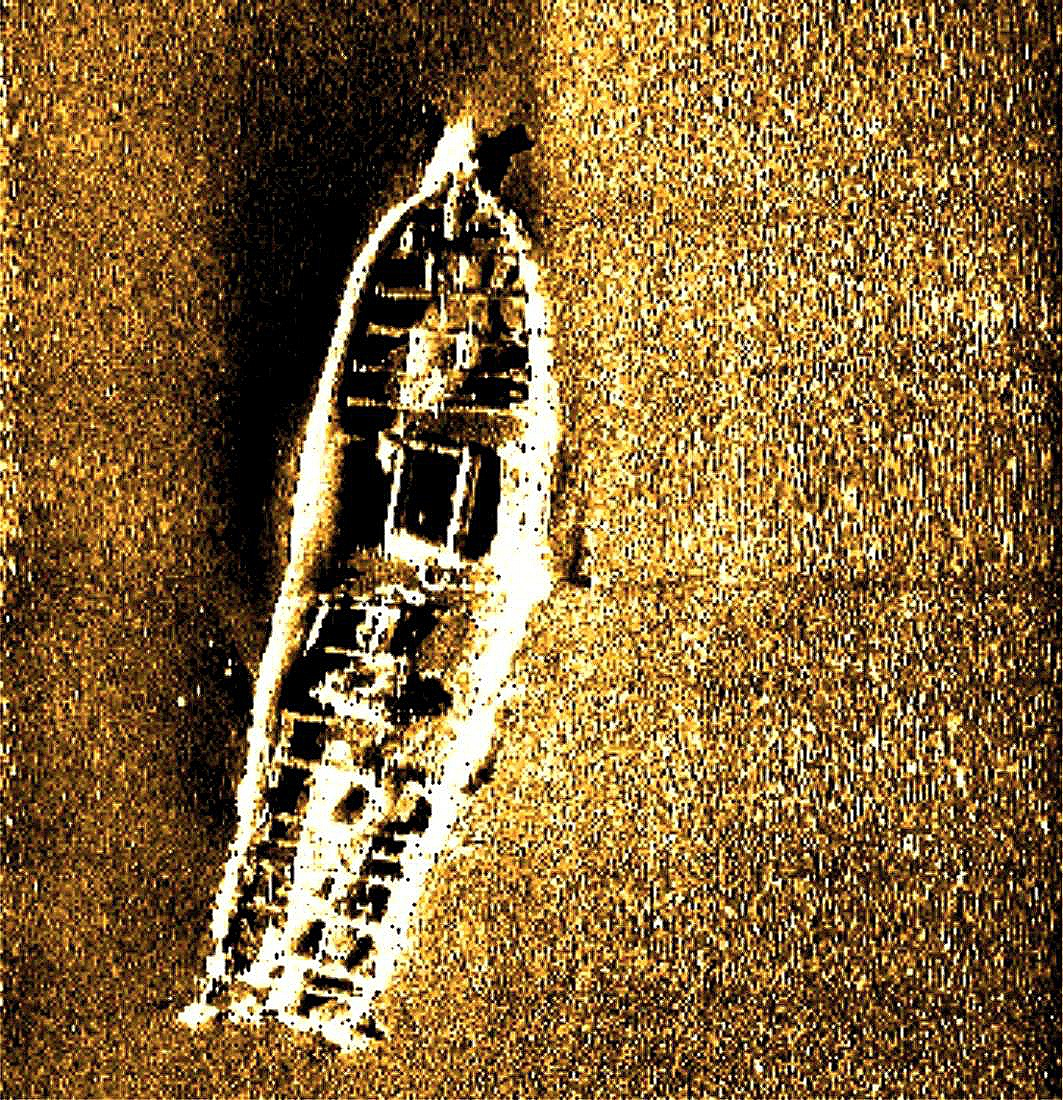ship: (178, 107, 563, 1051)
